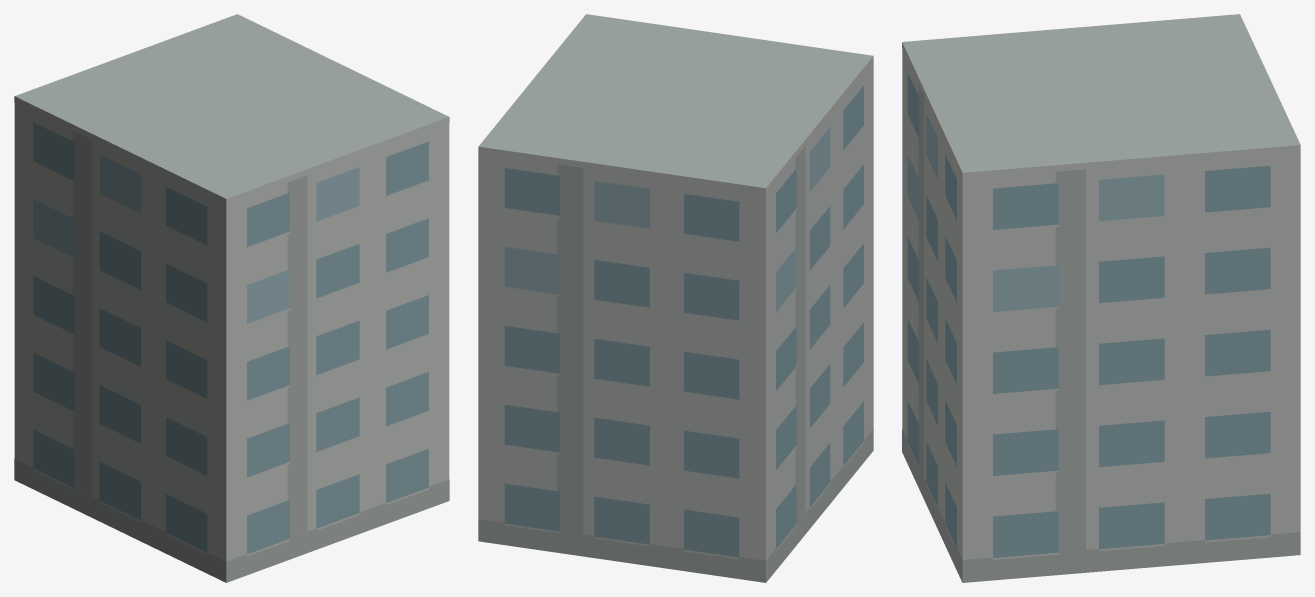
Rendered from residential-c82fbd02-a2d8-4328-8209-0d8b99d15031.glb.
The picture shows the model from 3 angles, left to right: view 1: azimuth 30°, elevation 25°; view 2: azimuth 150°, elevation 25°; view 3: azimuth 270°, elevation 25°; orthographic projection. The views are drawn at different scales.
Parts seen in each view (by area): view 1: residential-c82fbd02-a2d8-4328-8209-0d8b99d15031.tmp; view 2: residential-c82fbd02-a2d8-4328-8209-0d8b99d15031.tmp; view 3: residential-c82fbd02-a2d8-4328-8209-0d8b99d15031.tmp.
Part boxes in pixels (bbox=[...]): residential-c82fbd02-a2d8-4328-8209-0d8b99d15031.tmp: bbox=[14, 14, 449, 582]; residential-c82fbd02-a2d8-4328-8209-0d8b99d15031.tmp: bbox=[478, 14, 873, 582]; residential-c82fbd02-a2d8-4328-8209-0d8b99d15031.tmp: bbox=[902, 14, 1300, 582].
Bounding box in the file's own units: 12.68 × 15.25 × 13.45.
